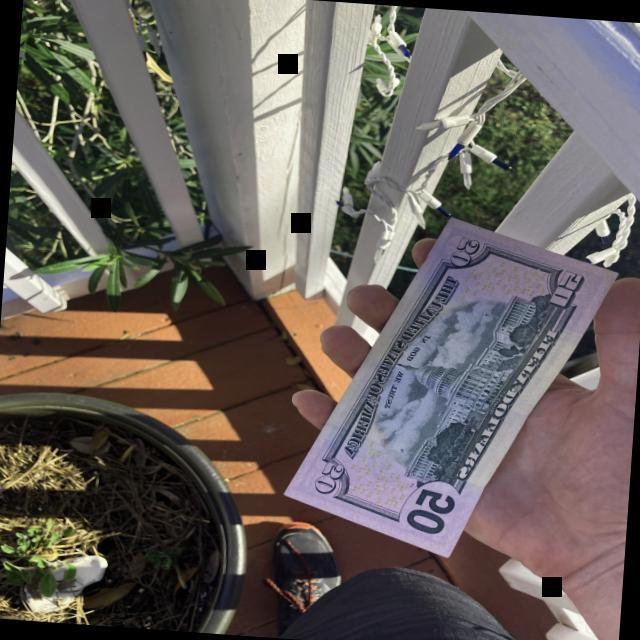fifty: (280, 215, 617, 557)
